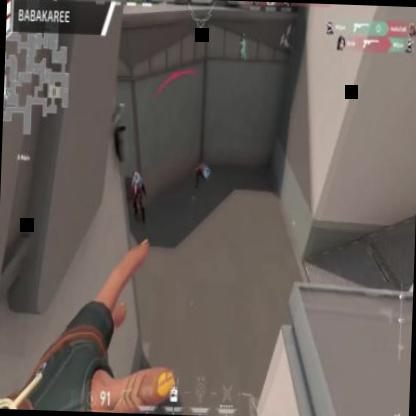enemy: (128, 168, 148, 223)
enemy_head: (134, 170, 138, 180)
